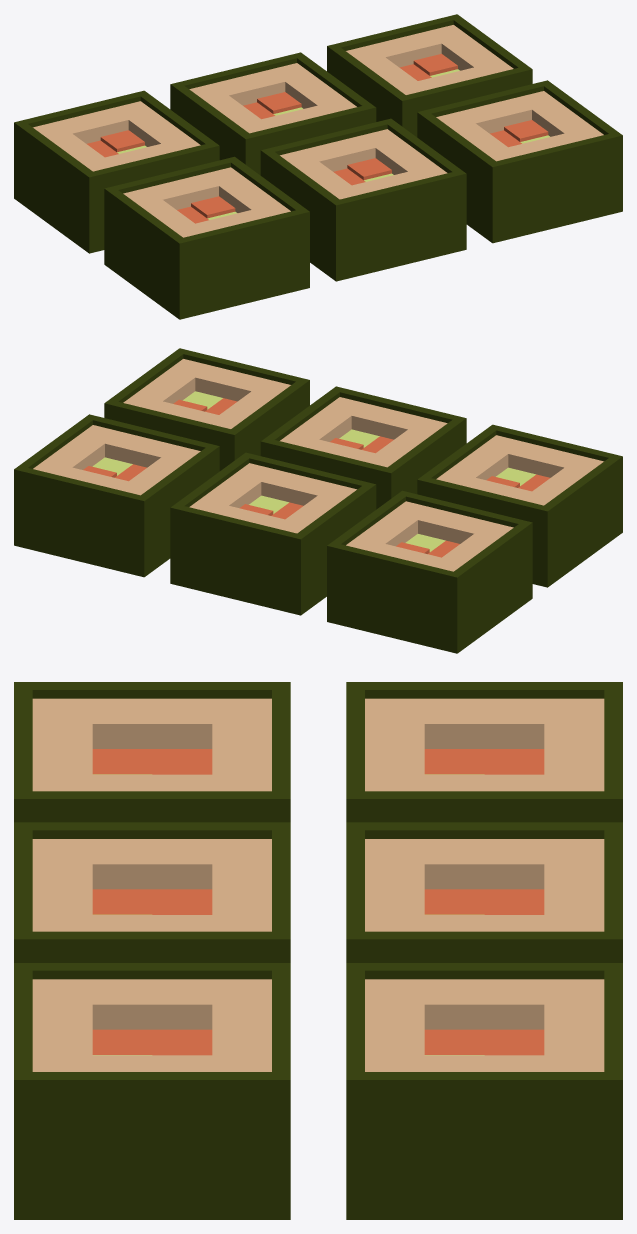
Rendered from sushi1.glb.
The picture shows the model from 3 angles, top to bottom: view 1: azimuth 30°, elevation 25°; view 2: azimuth 150°, elevation 25°; view 3: azimuth 270°, elevation 25°; orthographic projection. The views are drawn at different scales.
Parts seen in each view (by area): view 1: Sushi; view 2: Sushi; view 3: Sushi.
Part boxes in pixels (x1=…): Sushi: x1=14, y1=14, x2=622, y2=319; Sushi: x1=14, y1=348, x2=622, y2=653; Sushi: x1=14, y1=682, x2=622, y2=1219.
Bounding box in the file's own units: 3.87 × 0.6361 × 2.51.
